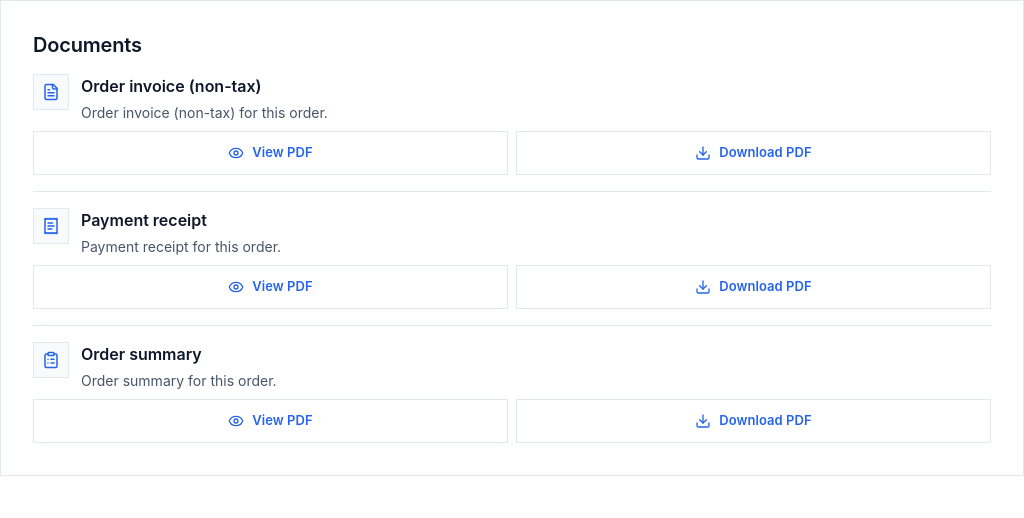
error handling › shows the 409 row message and refetches metadata so the list is corrected
Step 1. Click the button "Download PDF" below "Order invoice (non-tax) for this order." → (754, 153), box [516, 131, 991, 175]
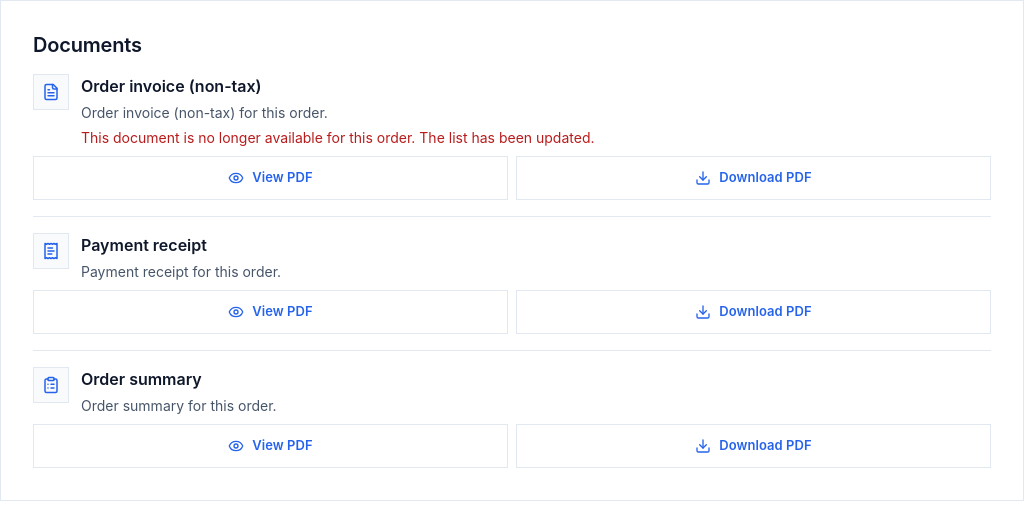
Result: the message reads "This document is no longer available for this order. The list has been updated." at [81, 129, 594, 146]
